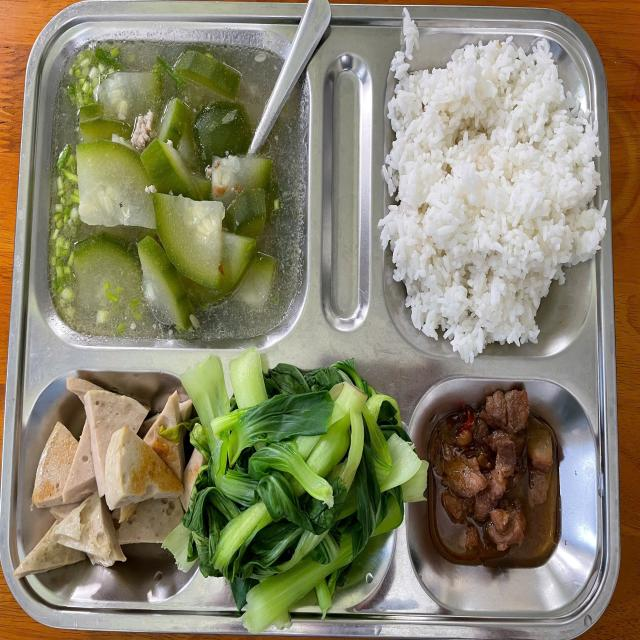caithia: (192, 352, 412, 626)
canhbau: (46, 44, 299, 338)
chalua: (27, 380, 184, 582)
salad: (399, 53, 593, 346)
thitkhogung: (434, 398, 567, 580)
